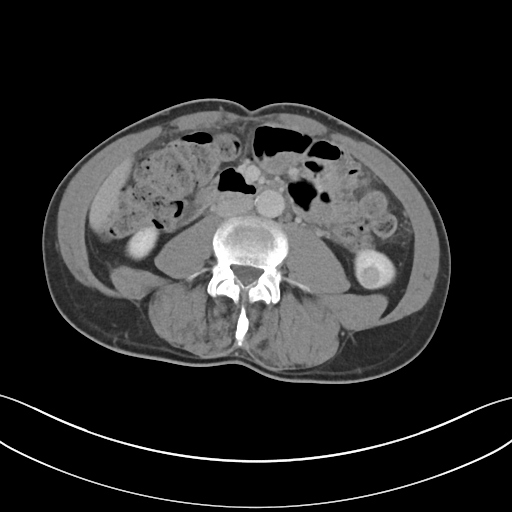Lesion: (360, 265, 383, 286)
